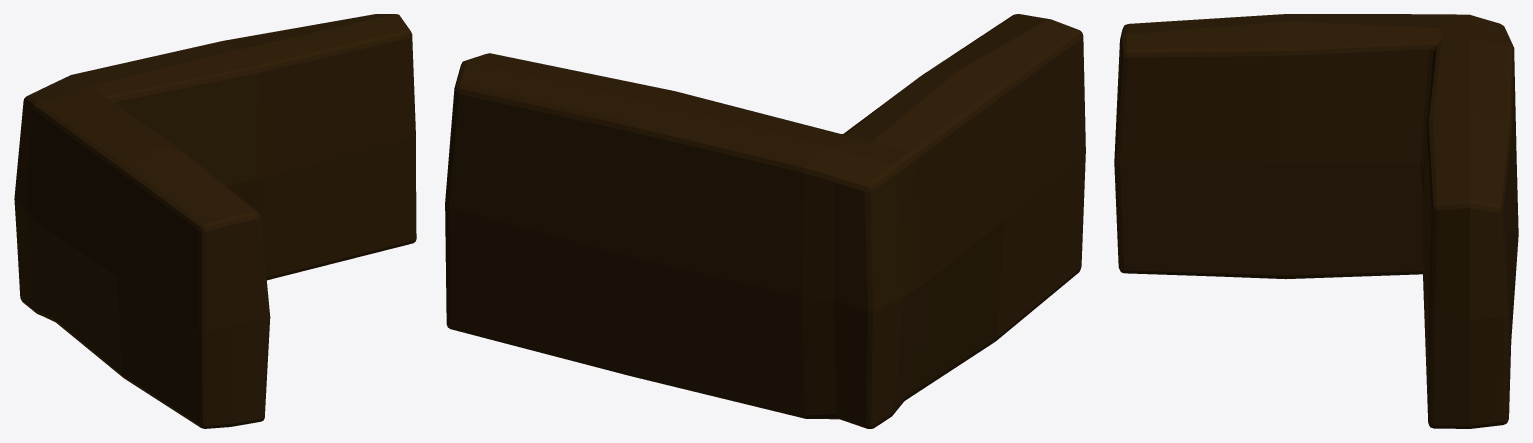
The model's file is Wall piece 15.fbx.
The picture shows the model from 3 angles, left to right: view 1: azimuth 30°, elevation 25°; view 2: azimuth 150°, elevation 25°; view 3: azimuth 270°, elevation 25°; orthographic projection. The views are drawn at different scales.
Visible parts, largest first — view 1: wall piece 15O; view 2: wall piece 15O; view 3: wall piece 15O.
Part boxes in pixels (x1,y1,x2,y2): wall piece 15O: (14, 14, 416, 428); wall piece 15O: (445, 14, 1085, 428); wall piece 15O: (1114, 14, 1518, 428).
Size of the model in its own units: 809 by 702 by 474.
